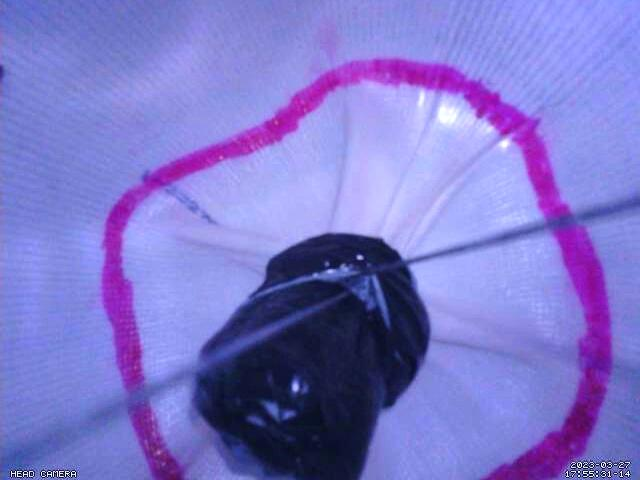red-circle: (100, 56, 614, 480)
